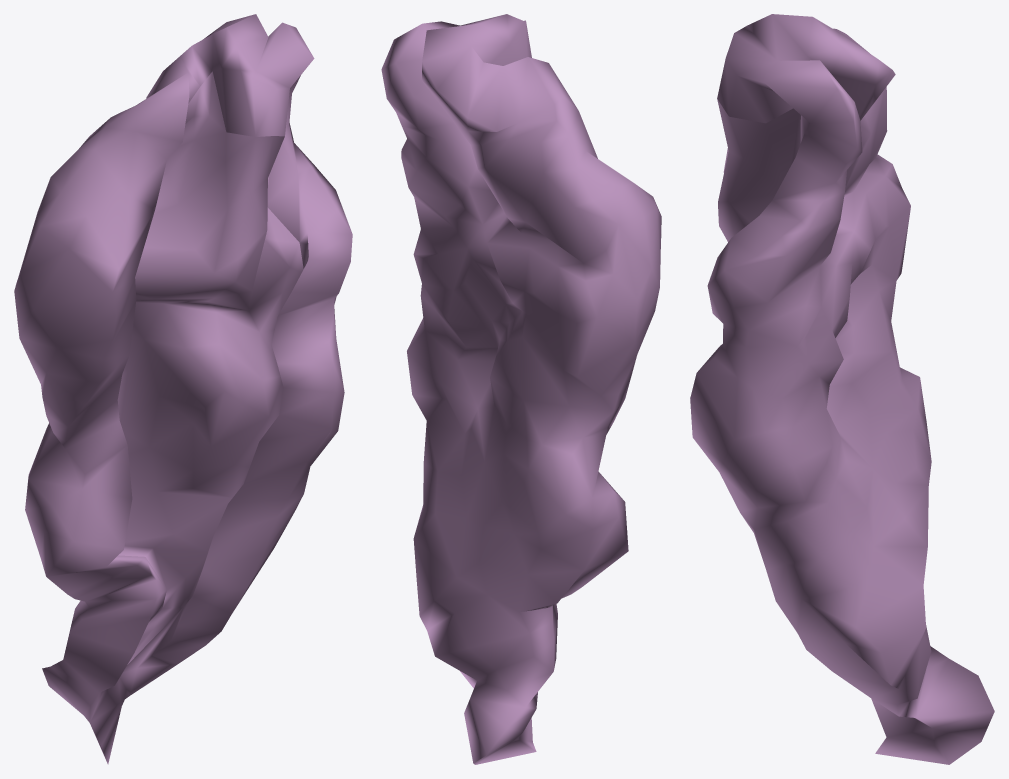
3 renders of one model, left to right at view 1: azimuth 30°, elevation 25°; view 2: azimuth 150°, elevation 25°; view 3: azimuth 270°, elevation 25°, orthographic. The views are drawn at different scales.
Parts seen in each view (by area): view 1: 右侧枕颞外侧回; view 2: 右侧枕颞外侧回; view 3: 右侧枕颞外侧回.
Boxes of the visible parts, <box> form: 右侧枕颞外侧回: <box>14,14,352,764</box>; 右侧枕颞外侧回: <box>381,14,661,764</box>; 右侧枕颞外侧回: <box>690,14,994,764</box>.
Size of the model in its own units: 0.038 by 0.0918 by 0.0324.
